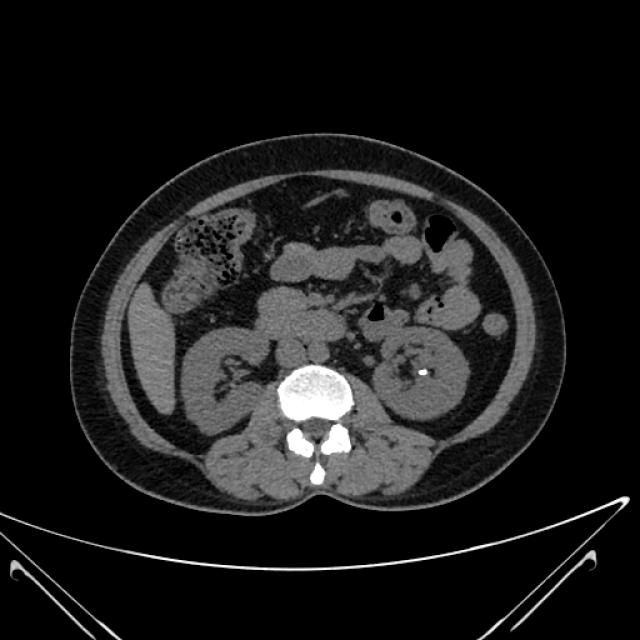kidney: (181, 326, 261, 437), (378, 328, 466, 422)
stone: (418, 368, 427, 378)
